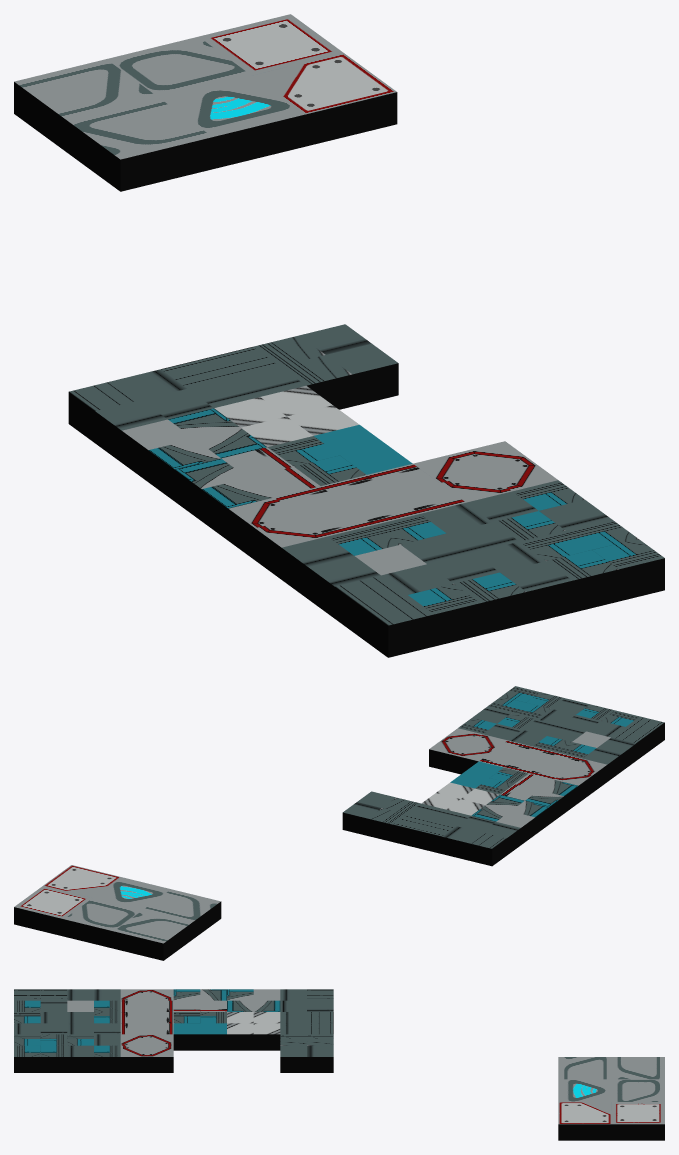
The model's file is ENV_Structures_Ground_Tiles.fbx_Pack3.fbx.
3 views of the same model, one above another, from view 1: azimuth 30°, elevation 25°; view 2: azimuth 150°, elevation 25°; view 3: azimuth 270°, elevation 25° (orthographic). The views are drawn at different scales.
Visible parts, largest first — view 1: P3-P04, P3-16, P3-P06, P3-17, P3-18, P3-P05, P3-03, P3-07, P3-13, P3-01, P3-10, P3-04 (+10 smaller); view 2: P3-P01, P3-01, P3-02, P3-03, P3-P02, P3-P03, P3-12, P3-13, P3-10, P3-P04, P3-04, P3-07 (+10 smaller); view 3: P3-03, P3-05, P3-08, P3-12, P3-15, P3-18, P3-P03, P3-P06, P3-01, P3-02, P3-04, P3-07 (+10 smaller).
Part boxes in pixels (x1,y1,x2,y2): P3-P04: (67,98,212,191); P3-16: (335,564,480,657); P3-P06: (252,53,397,146); P3-17: (427,541,572,635); P3-18: (520,519,664,612); P3-P05: (160,75,304,168); P3-03: (253,324,398,409); P3-07: (175,447,320,540); P3-13: (281,525,426,618); P3-01: (68,369,213,462); P3-10: (228,486,373,579); P3-04: (121,408,266,501); P3-P01: (113,910,192,960); P3-01: (442,815,520,866); P3-02: (392,803,470,853); P3-03: (342,791,420,841); P3-P02: (64,898,141,948); P3-P03: (14,886,92,936); P3-12: (429,728,506,774); P3-13: (558,731,636,781); P3-10: (529,752,607,802); P3-P04: (143,889,221,939); P3-04: (471,794,549,844); P3-07: (500,773,578,823); P3-03: (280,1034,333,1072); P3-05: (227,1012,280,1050); P3-08: (173,1012,226,1050); P3-12: (120,1034,173,1072); P3-15: (67,1034,120,1072); P3-18: (14,1034,67,1072); P3-P03: (611,1102,664,1140); P3-P06: (558,1102,611,1140); P3-01: (280,989,333,1011); P3-02: (280,1012,333,1034); P3-04: (227,989,280,1011); P3-07: (173,989,226,1011).
Size of the model in its own units: 1800 by 3666 by 100.
